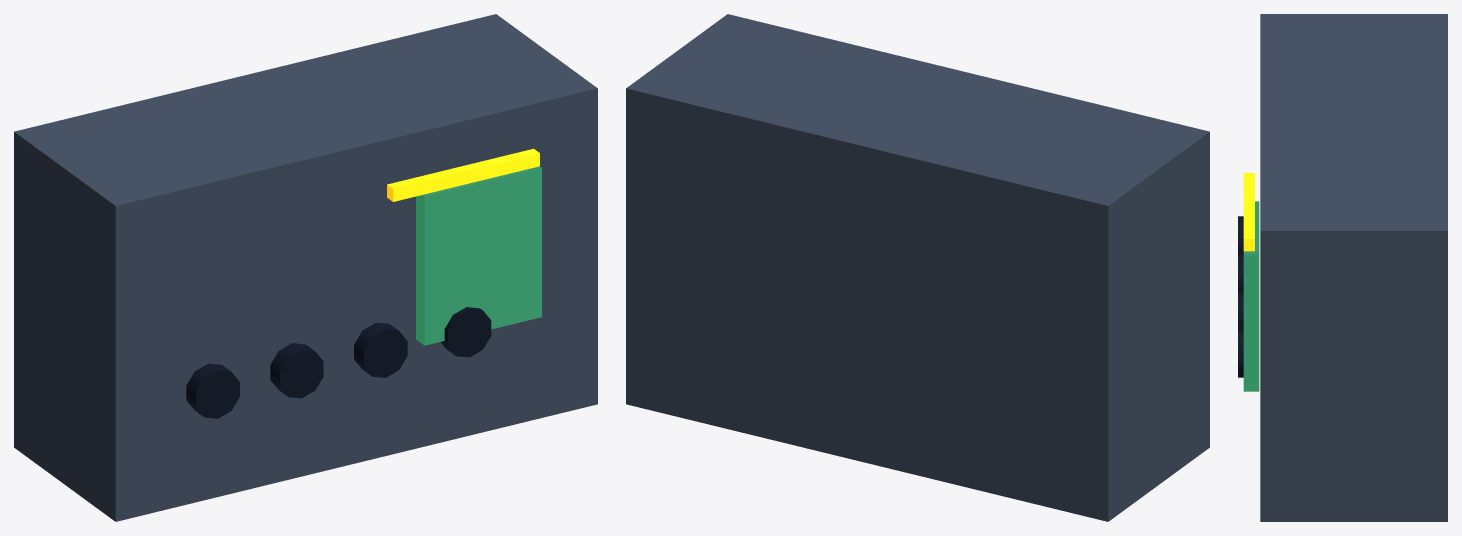
Rendered from power_junction_box.glb.
3 renders of one model, left to right at view 1: azimuth 30°, elevation 25°; view 2: azimuth 150°, elevation 25°; view 3: azimuth 270°, elevation 25°, orthographic. The views are drawn at different scales.
Visible parts, largest first — view 1: power_junction_box_enclosure, power_junction_box_diagnostic_panel, power_junction_box, power_junction_box_status; view 2: power_junction_box_enclosure; view 3: power_junction_box_enclosure, power_junction_box_diagnostic_panel, power_junction_box, power_junction_box_status.
Part boxes in pixels (x1=…): power_junction_box_enclosure: x1=14, y1=14, x2=597, y2=521; power_junction_box_diagnostic_panel: x1=416, y1=166, x2=541, y2=345; power_junction_box: x1=186, y1=307, x2=491, y2=418; power_junction_box_status: x1=387, y1=148, x2=539, y2=201; power_junction_box_enclosure: x1=626, y1=14, x2=1209, y2=521; power_junction_box_enclosure: x1=1260, y1=14, x2=1447, y2=521; power_junction_box_diagnostic_panel: x1=1243, y1=201, x2=1259, y2=391; power_junction_box: x1=1238, y1=216, x2=1243, y2=377; power_junction_box_status: x1=1243, y1=173, x2=1254, y2=251.
Size of the model in its own units: 1.15 by 0.72 by 0.47.
